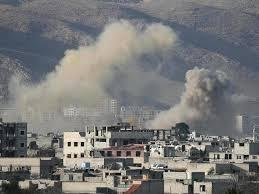smoke: (2, 18, 242, 141)
